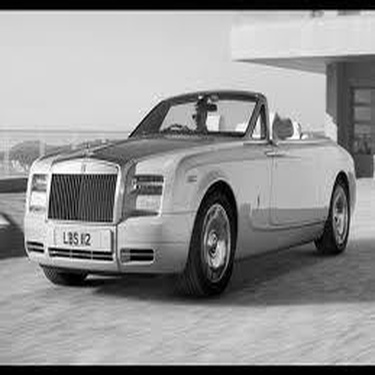car: (19, 82, 361, 298)
